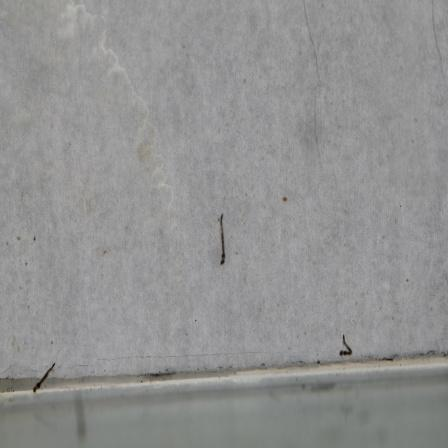Jentik-Nyamuk: (214, 207, 231, 267), (33, 357, 58, 395), (335, 328, 355, 361)
